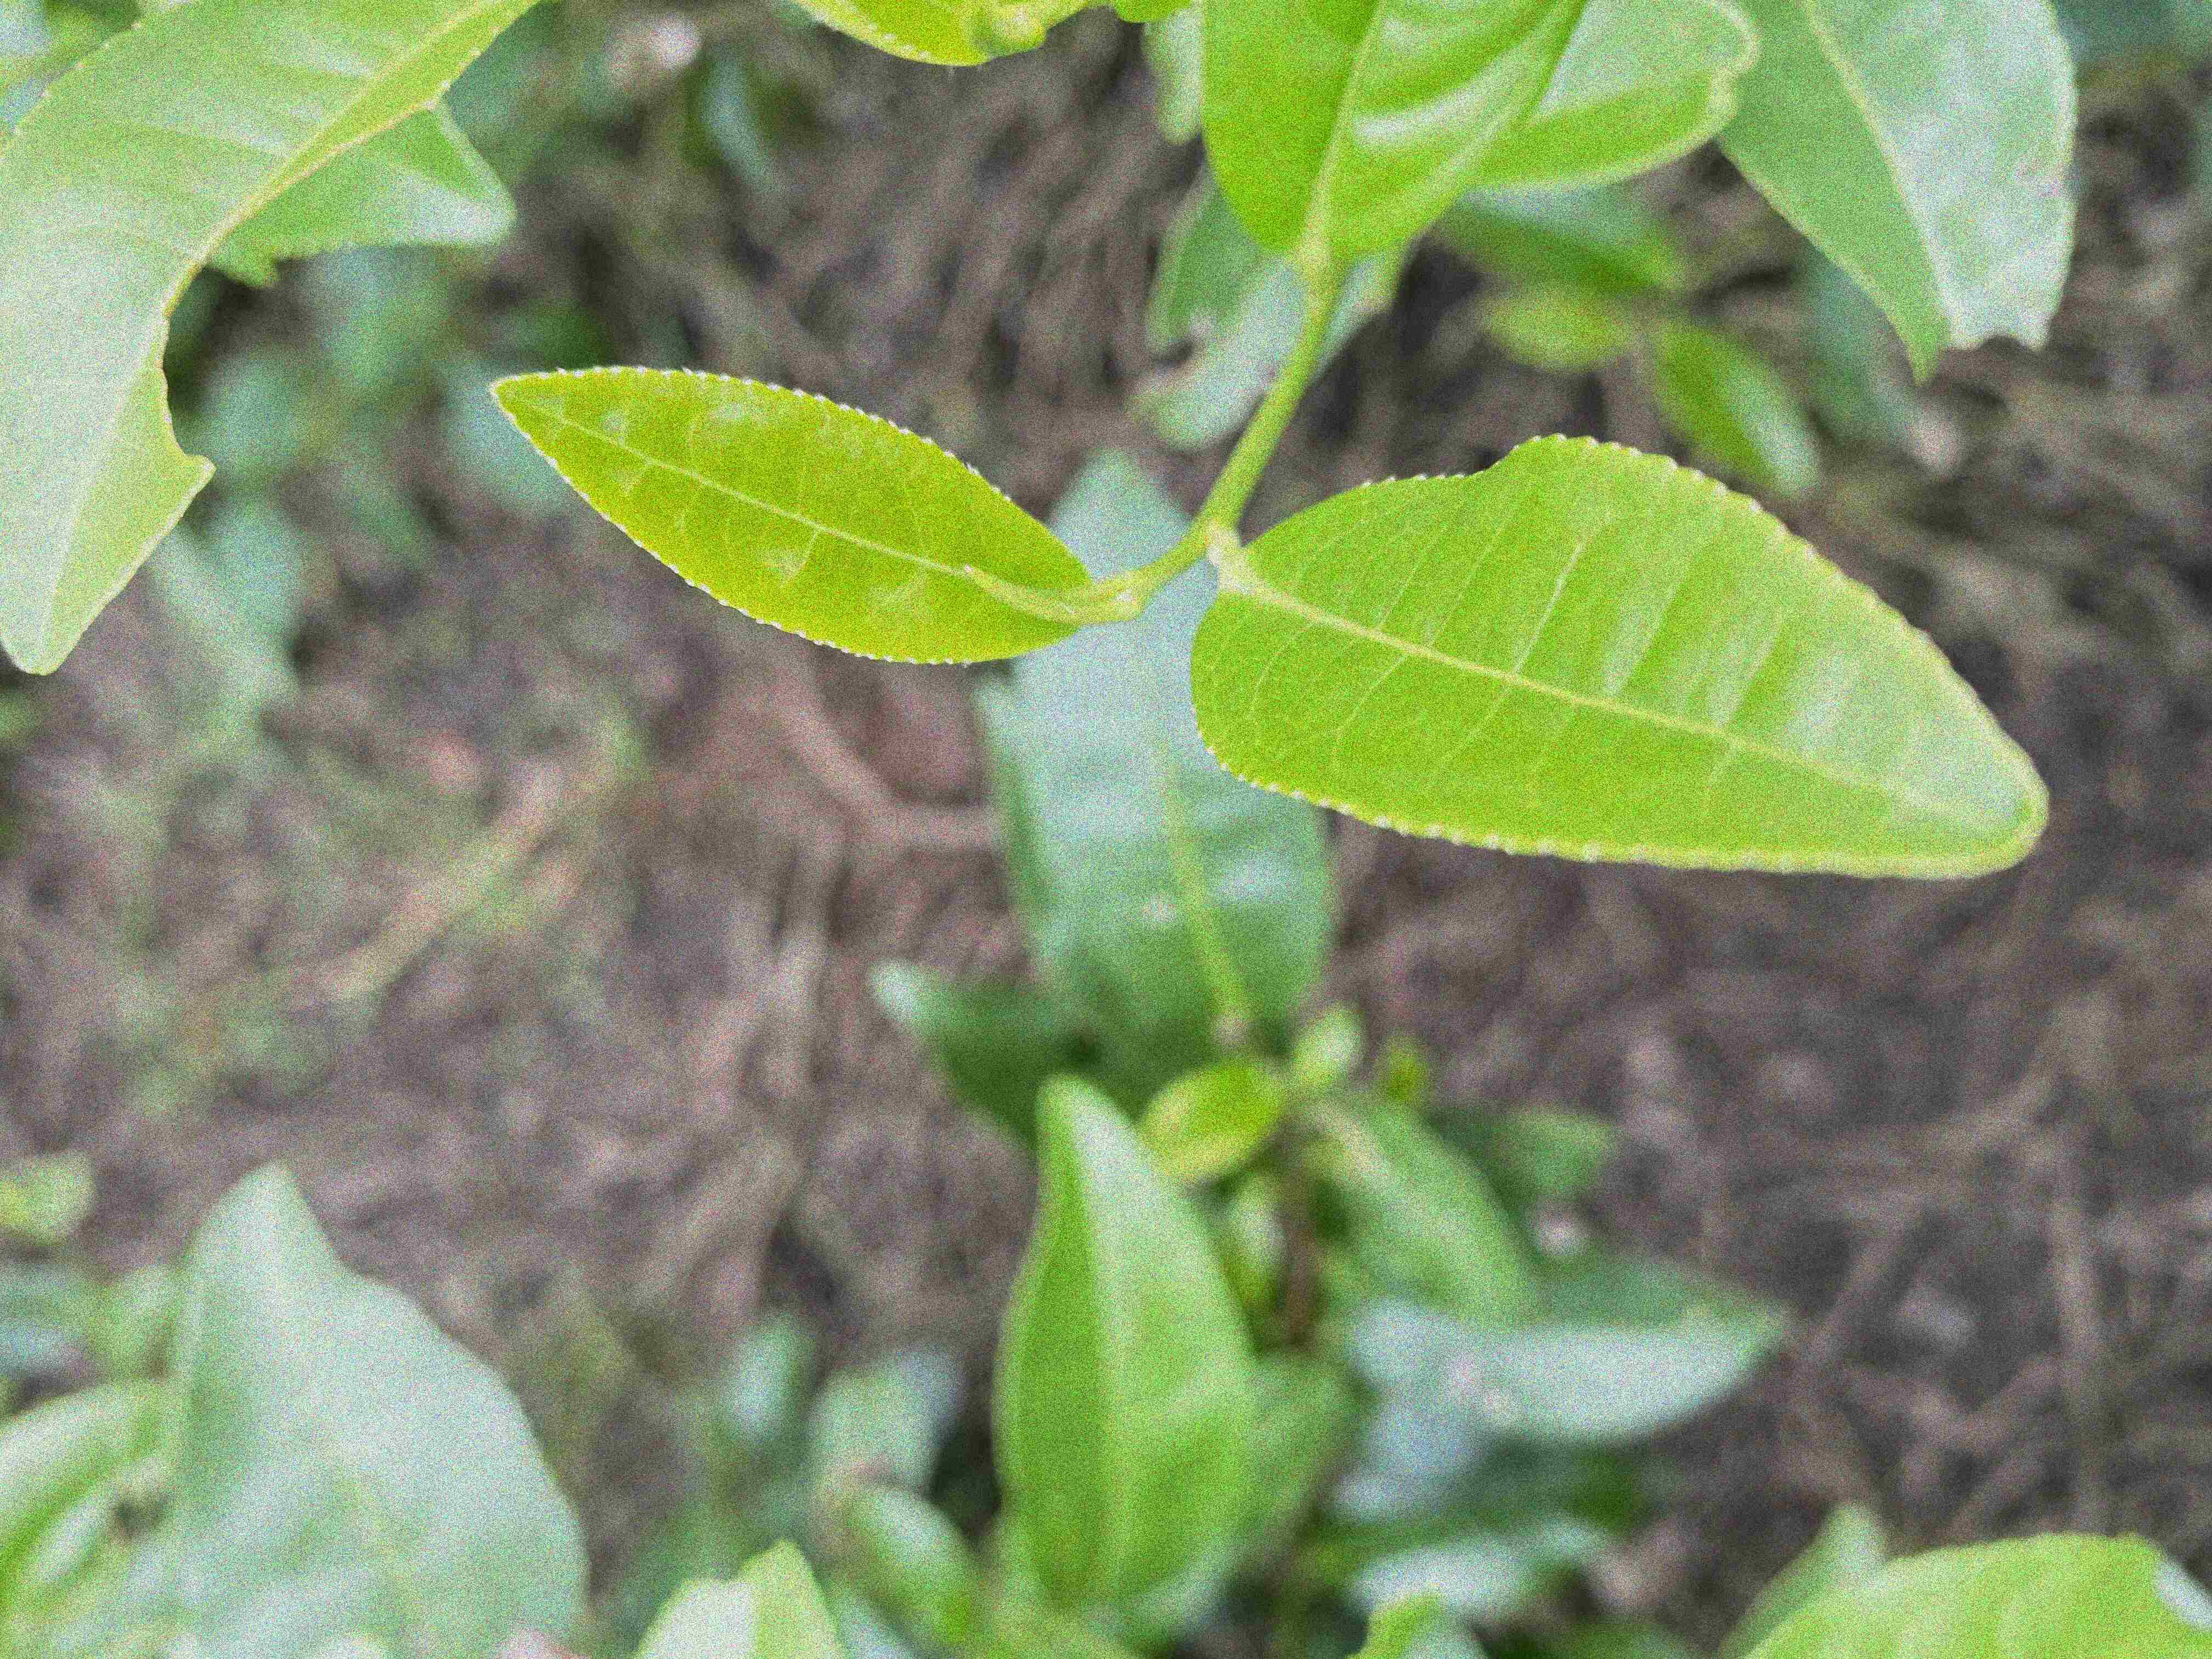chihuo_low: (3, 2, 535, 676), (1714, 3, 2083, 385)
healthy: (1188, 425, 2045, 882), (489, 359, 1090, 671)
